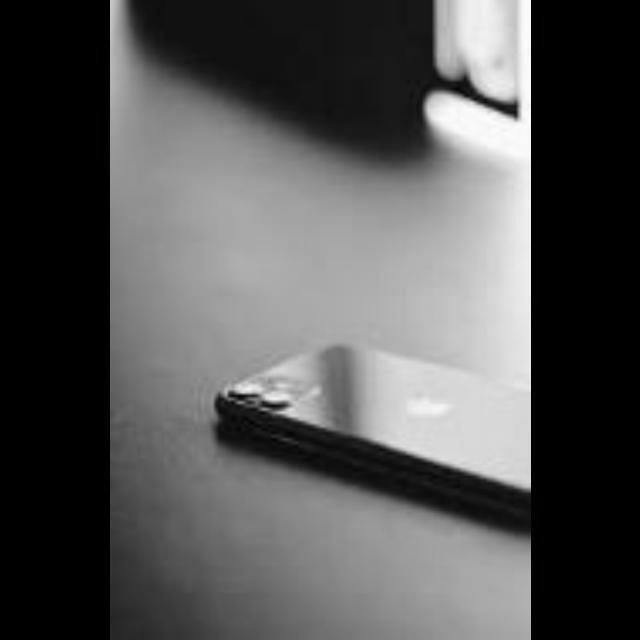fake: (186, 284, 528, 554)
